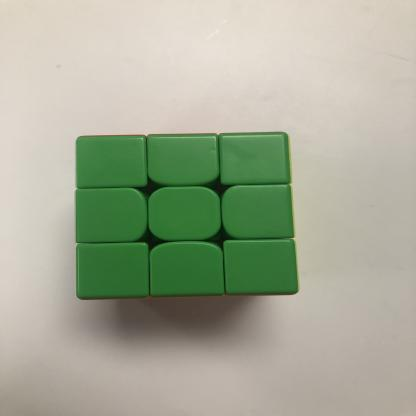SolvedCube: (53, 119, 327, 324)
